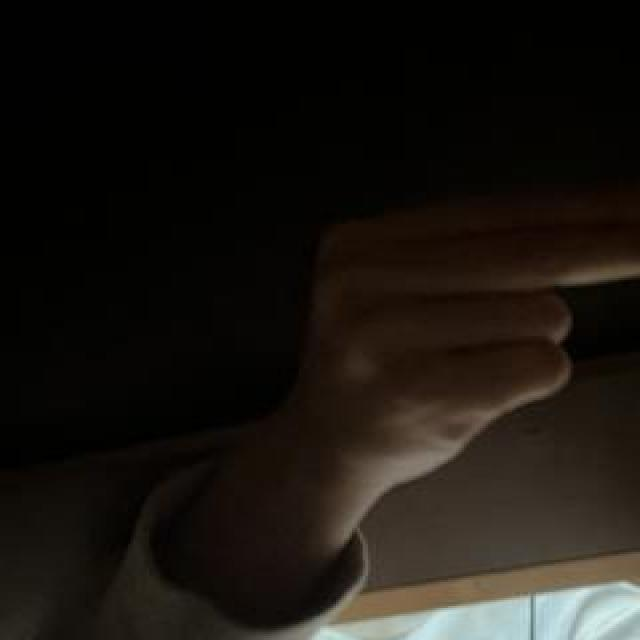H: (285, 207, 640, 511)
